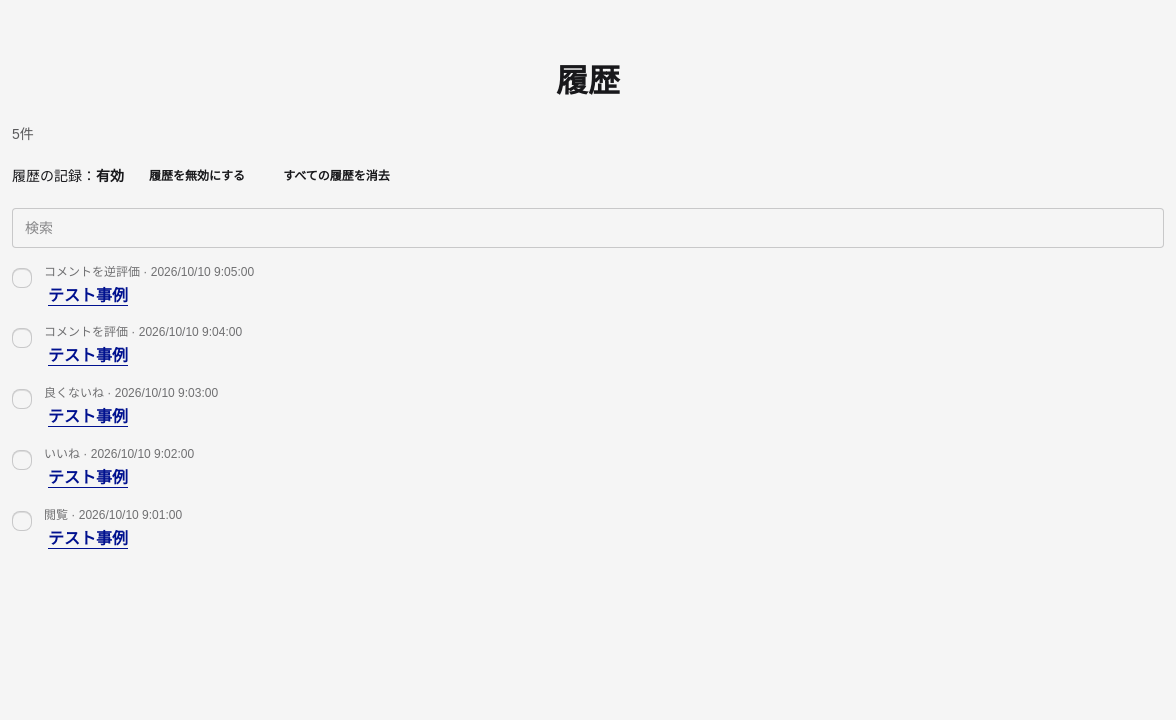
履歴の表示と検索 › すべての種類を並べ、検索窓だけで絞り込みと解除ができる
The width and height of the screenshot is (1176, 720).
Expected: the number of links "テスト事例" is 5, [44, 282, 132, 308]; [44, 343, 132, 368]; [44, 404, 132, 429]; [44, 465, 132, 490]; [44, 526, 132, 551]
Expected: the text "コメントを逆評価 · 2026/10/10 9:05:00" is shown, [44, 264, 254, 280]
Click the checkbox named "履歴を選択（コメントを逆評価" at coordinates (22, 278), box [12, 268, 32, 288]
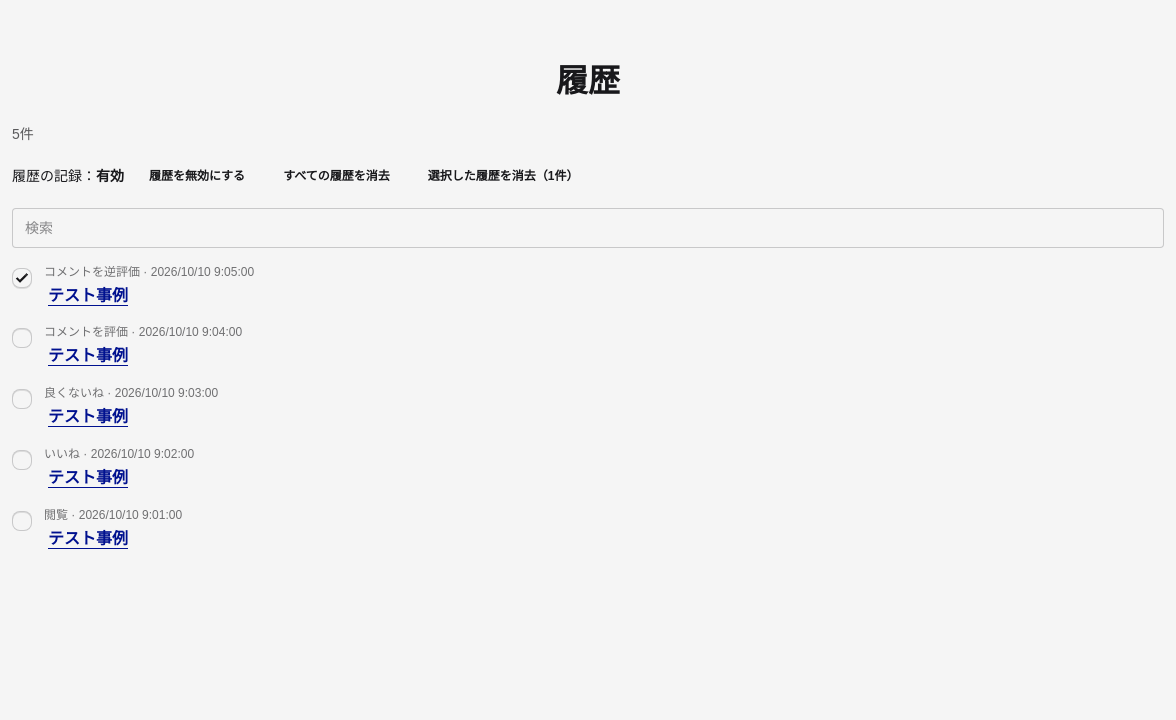
Now the button "選択した履歴を消去（1件）" is enabled, box [415, 160, 592, 192]
Type "本文タグ" into the search field named "履歴を検索" at coordinates (588, 228), box [12, 208, 1164, 248]
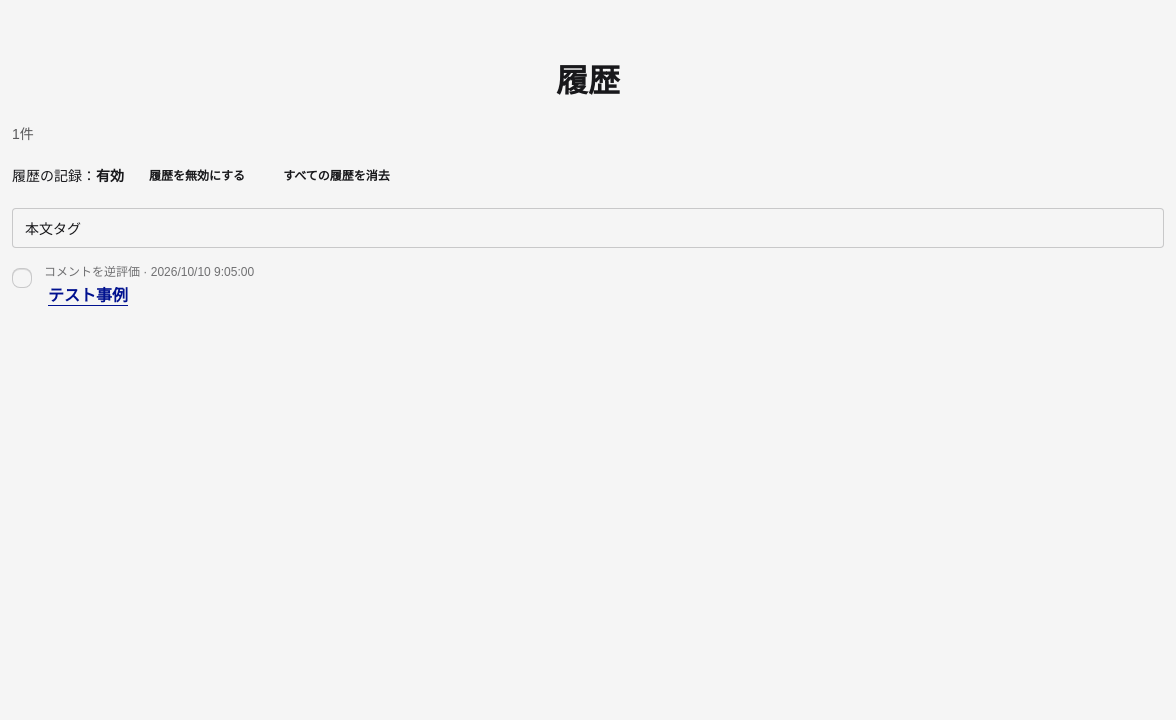
Now the checkbox is not checked, box [12, 268, 32, 288]
Now the number of links "テスト事例" is 1, box [44, 282, 132, 308]
Now the button "選択した履歴を消去" is gone
Clear the search field named "履歴を検索" at coordinates (588, 228), box [12, 208, 1164, 248]
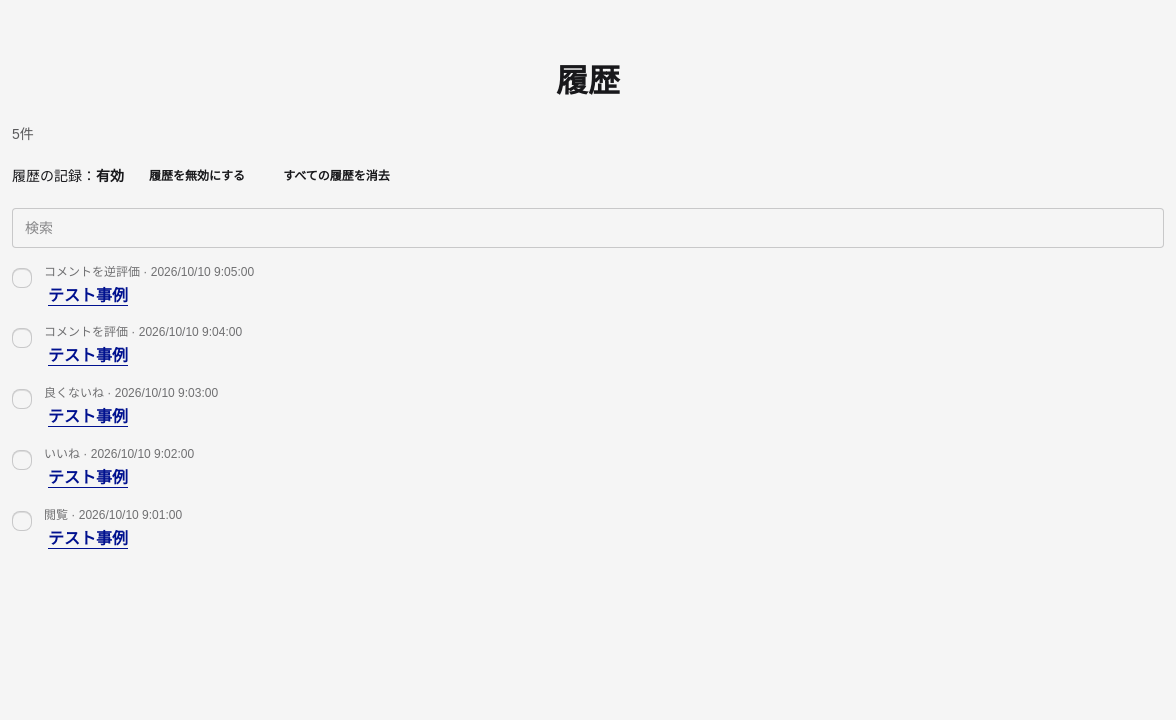
Now the number of links "テスト事例" is 5, box [44, 282, 132, 308]; [44, 343, 132, 368]; [44, 404, 132, 429]; [44, 465, 132, 490]; [44, 526, 132, 551]
